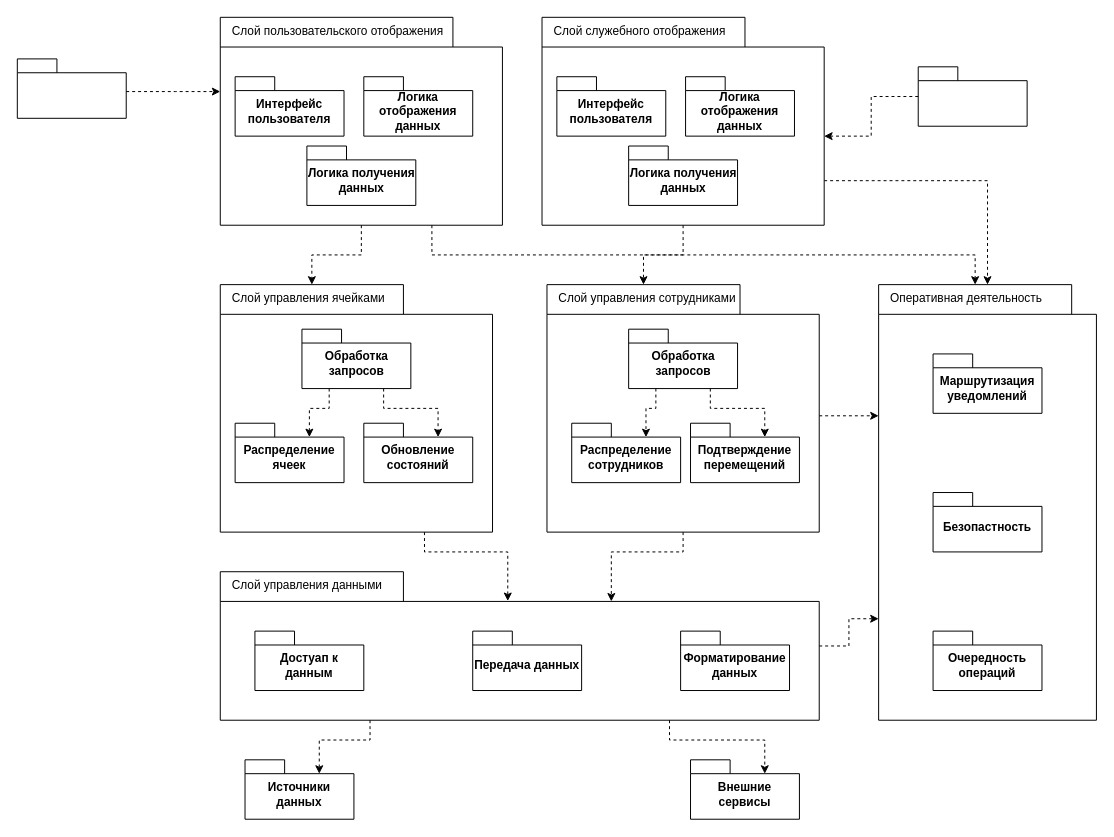
This 1114x837 diagram has some shape labels left out. The centre of each missing label's shape, as x and y in pixels:
Внешние системы: point (972, 96)
Пользователи: point (71, 88)
